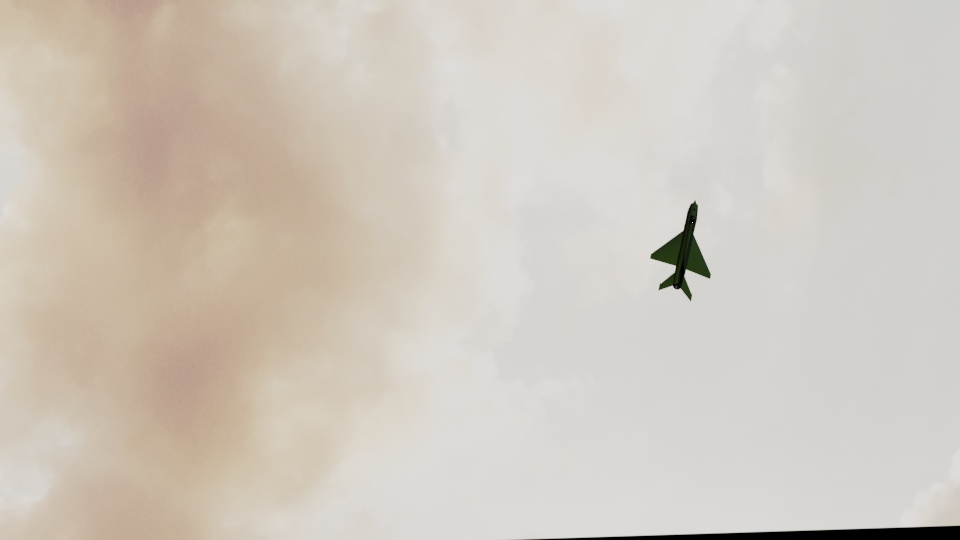plane: (649, 200, 711, 299)
